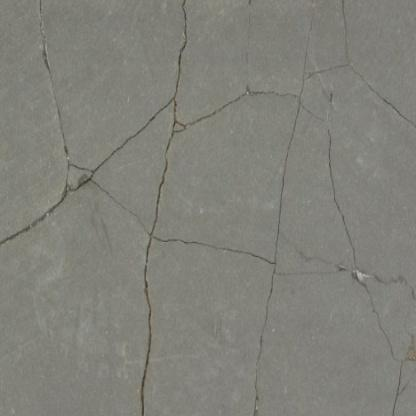Cracks: (0, 0, 416, 416), (325, 127, 414, 416), (250, 367, 264, 416), (326, 88, 338, 112)
